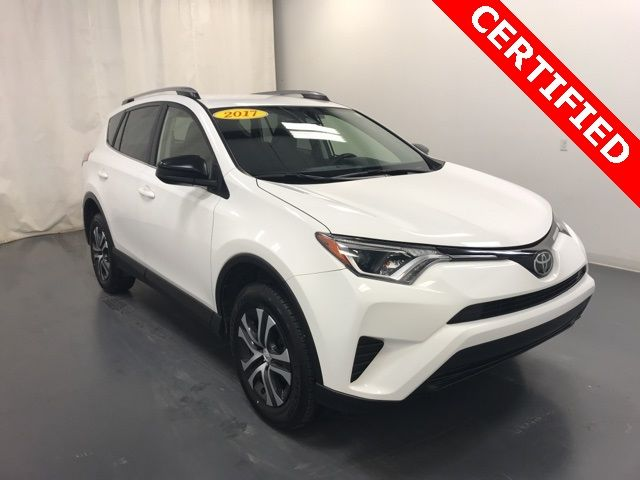Toyota RAV-4: (77, 85, 597, 436)
